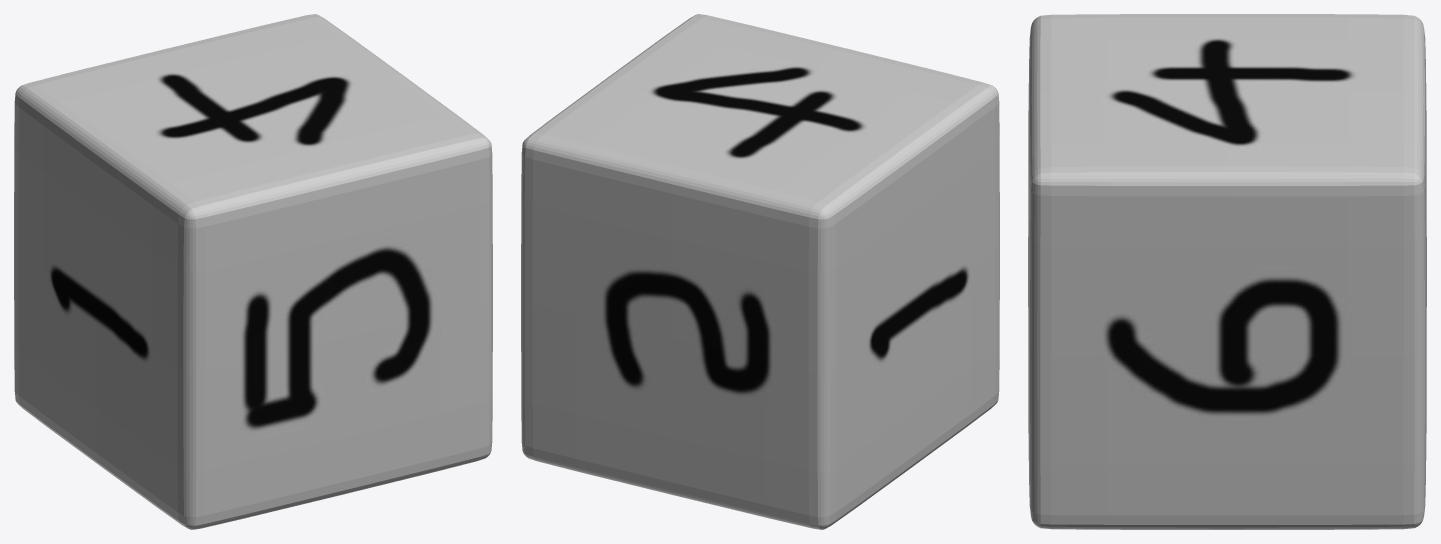
The picture shows the model from 3 angles, left to right: view 1: azimuth 30°, elevation 25°; view 2: azimuth 150°, elevation 25°; view 3: azimuth 270°, elevation 25°; orthographic projection. The views are drawn at different scales.
Parts seen in each view (by area): view 1: d6; view 2: d6; view 3: d6.
Boxes of the visible parts, <box> form: d6: <box>14,14,492,529</box>; d6: <box>521,14,999,529</box>; d6: <box>1028,14,1426,529</box>.
Bounding box in the file's own units: 4.64 × 4.64 × 4.64.
Materials: 1 (1 with a texture image).
